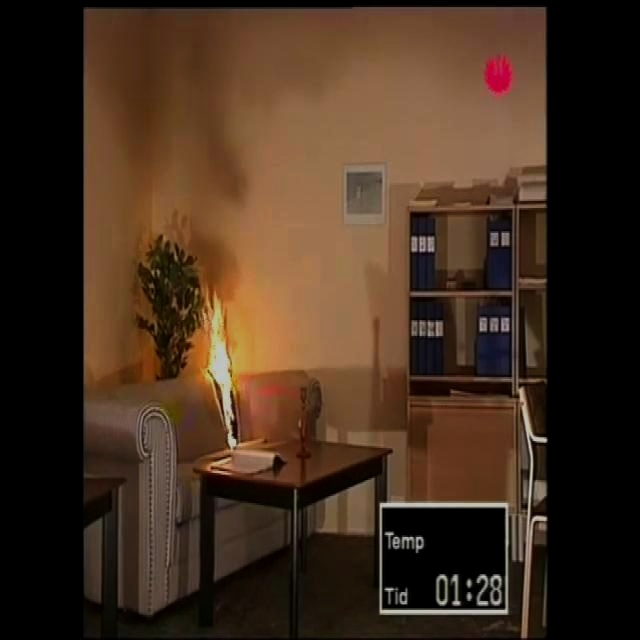fire: (197, 281, 256, 438)
